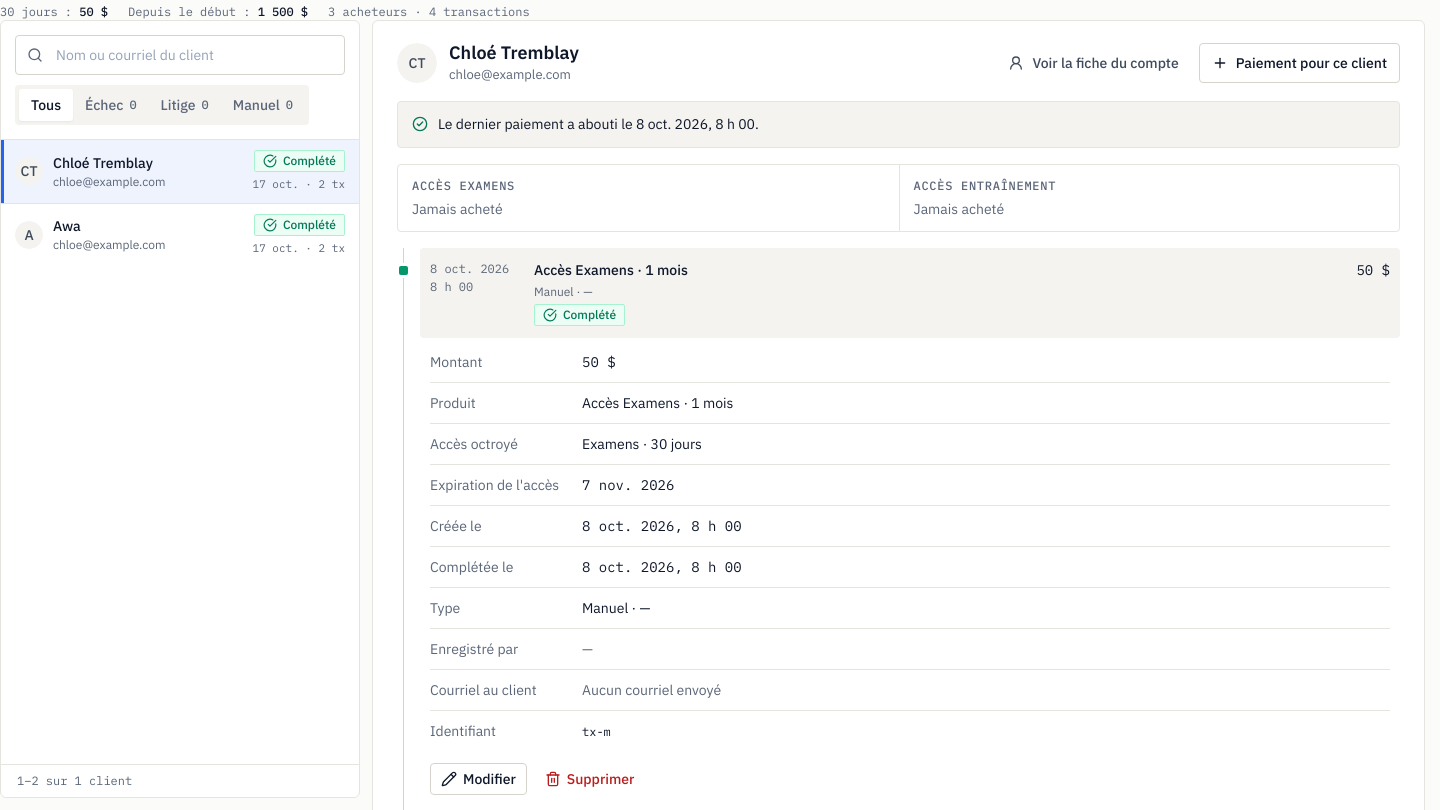
Scenario: TransactionsClient — panneau du dossier › « Paiement pour ce client » ouvre la saisie avec ce client imposé
(page scrolled)
Click the button "Paiement pour ce client". click: coordinates (1299, 63)
box: [1199,43,1400,83]
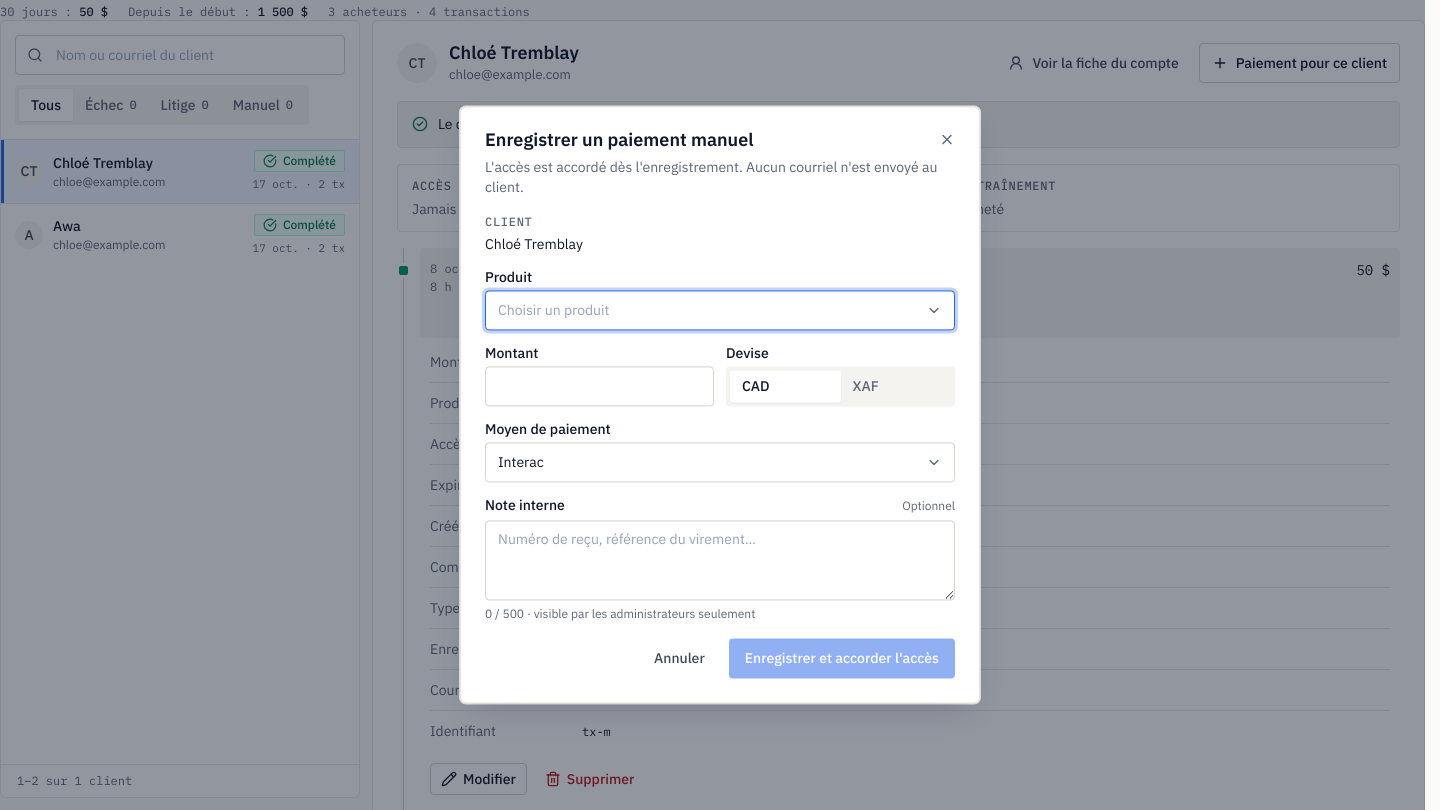
Result: the dialog shows "Chloé Tremblay" at [485,236,583,254]
